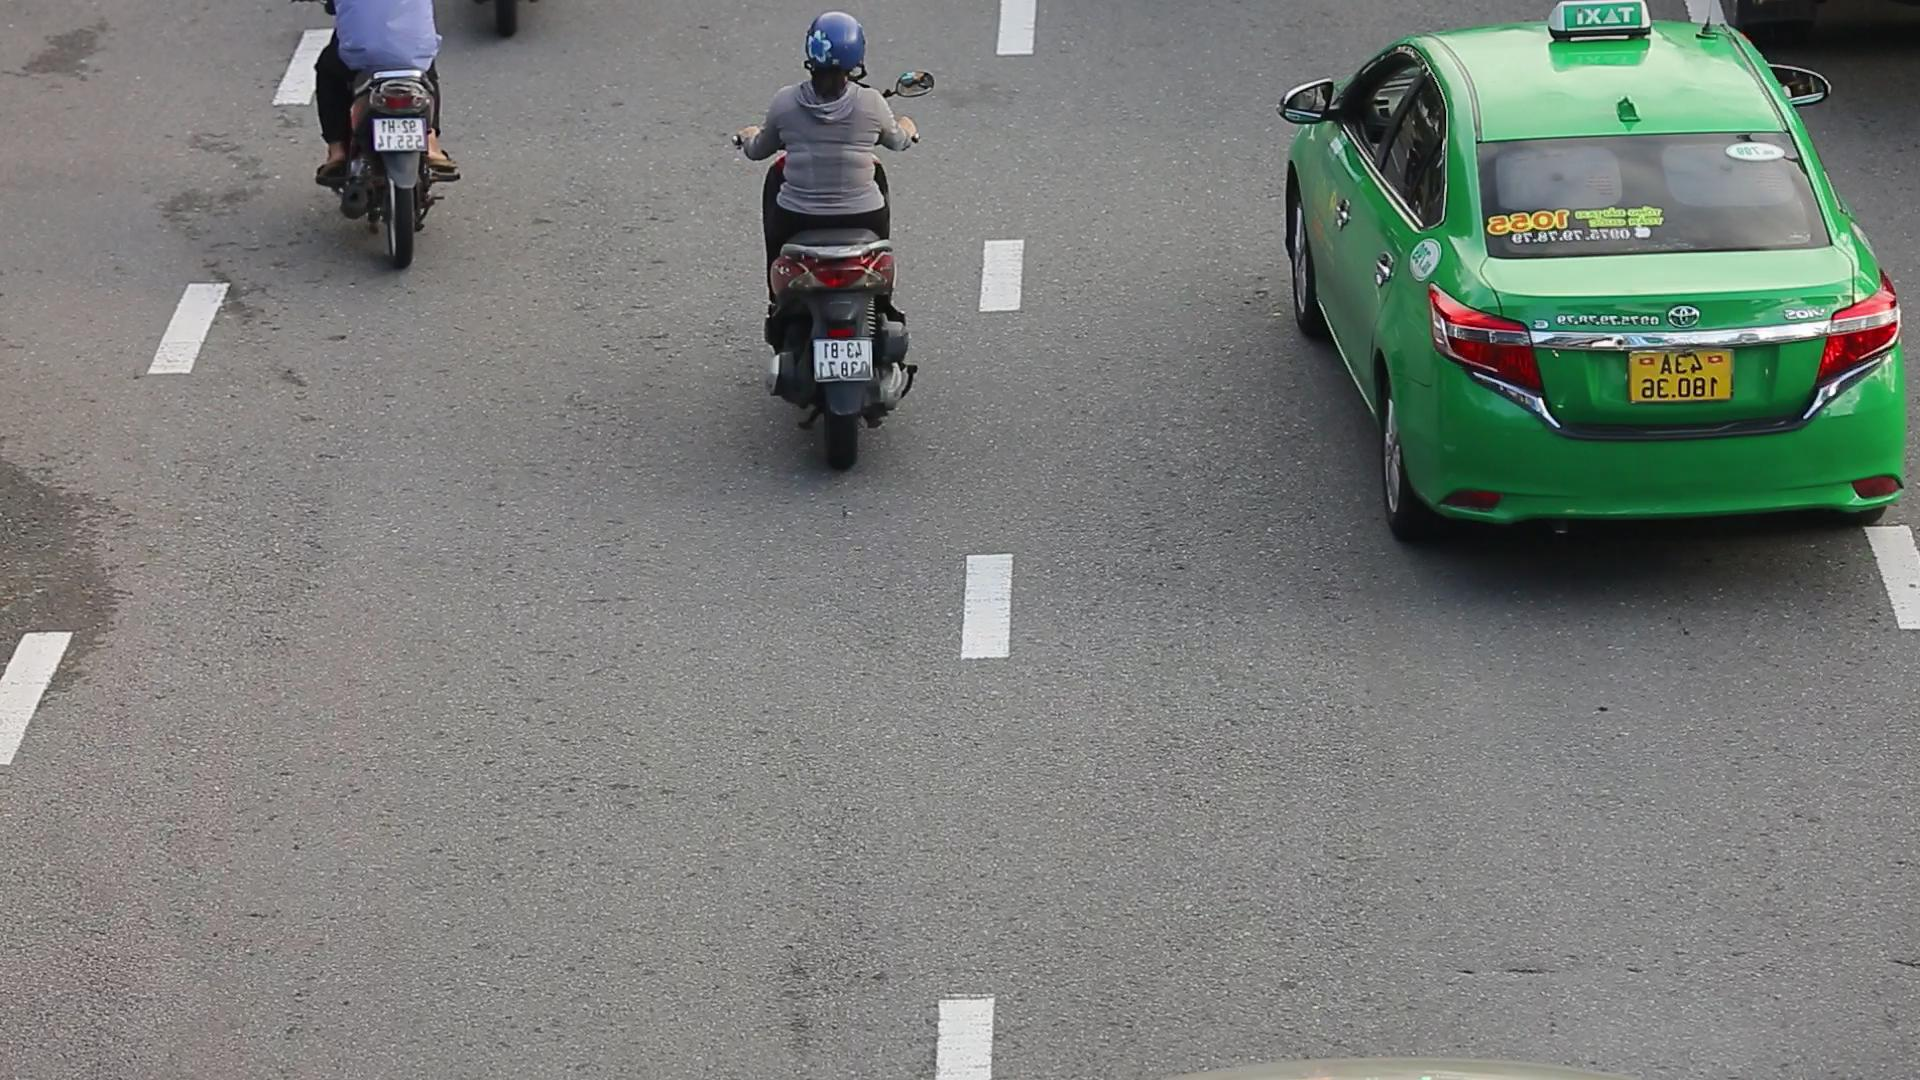motobike: (717, 0, 948, 483)
